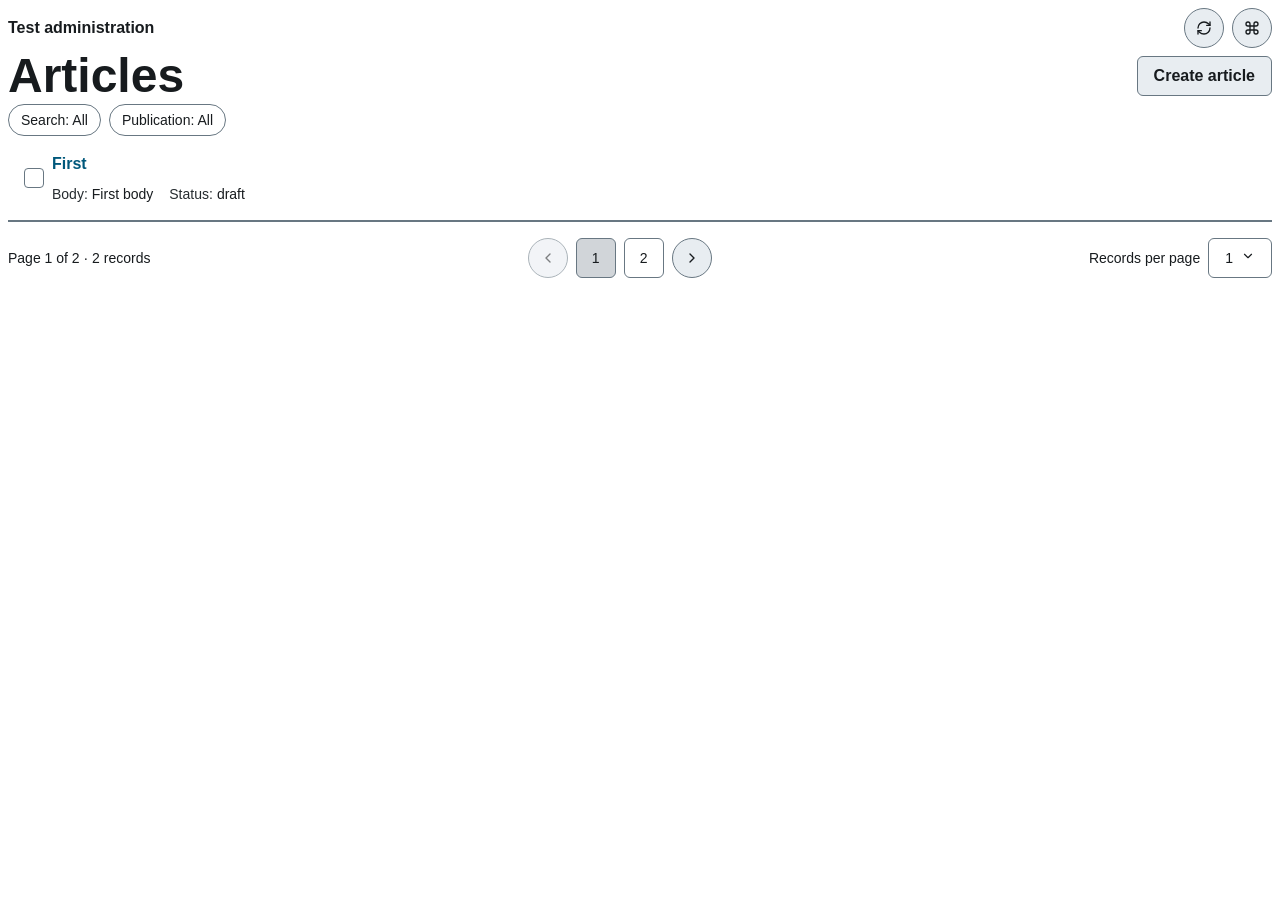
Test: registration-driven default pages › preserves selection and returns focus when deletion is cancelled
Click the checkbox named "Select First" at (34, 178), box [24,168,44,188]
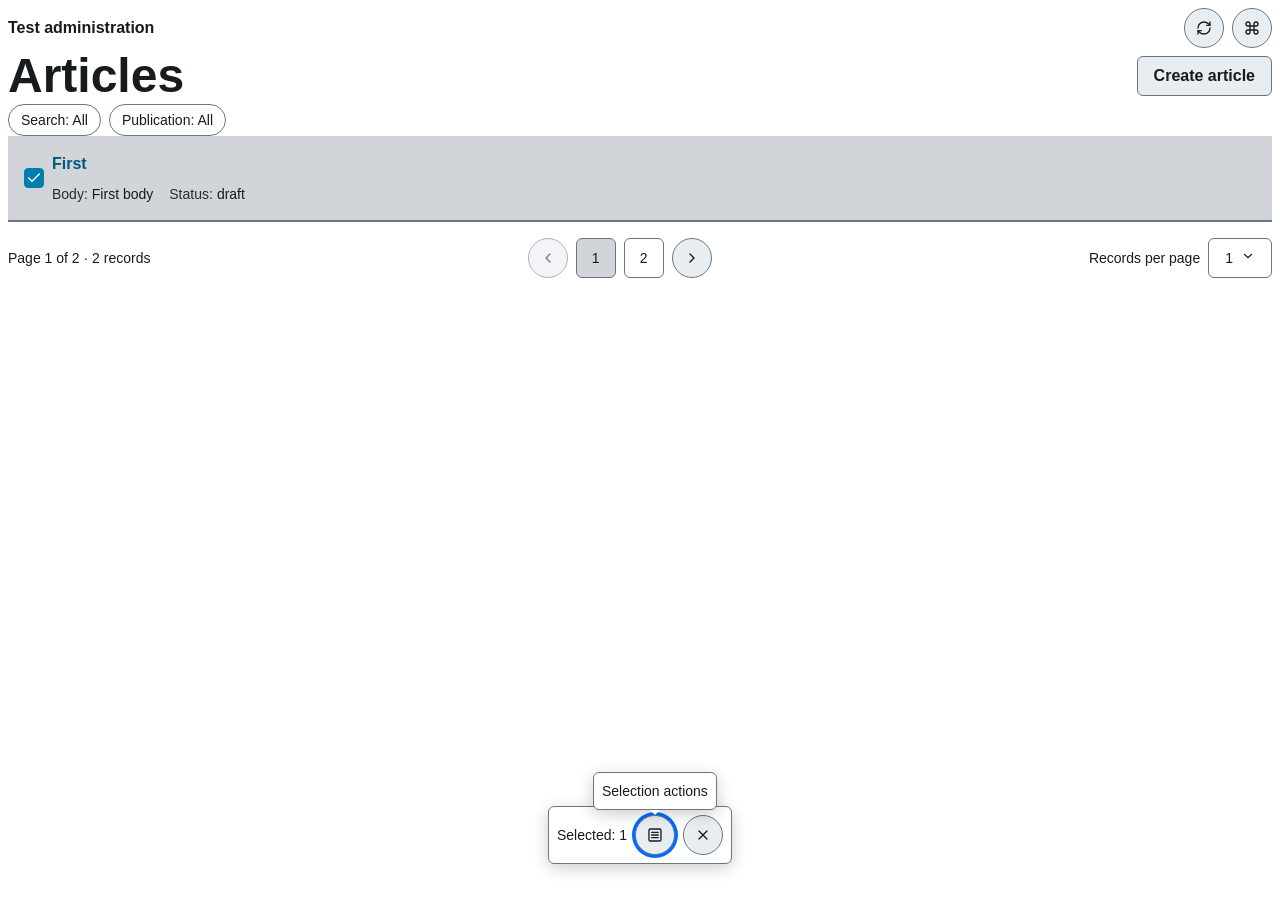
Press Enter
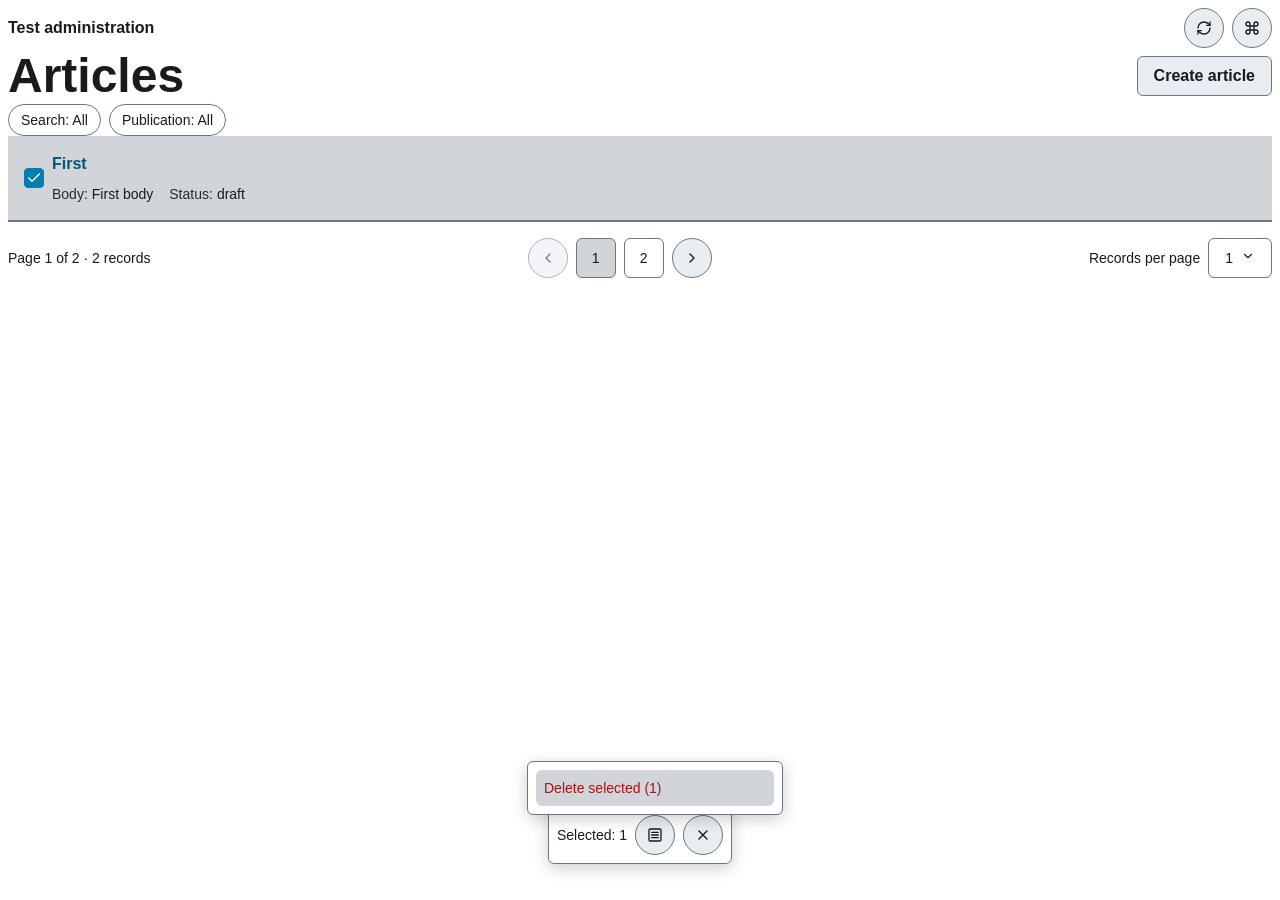
Click the menu item "Delete selected (1)" at (655, 788), box [536,770,774,806]
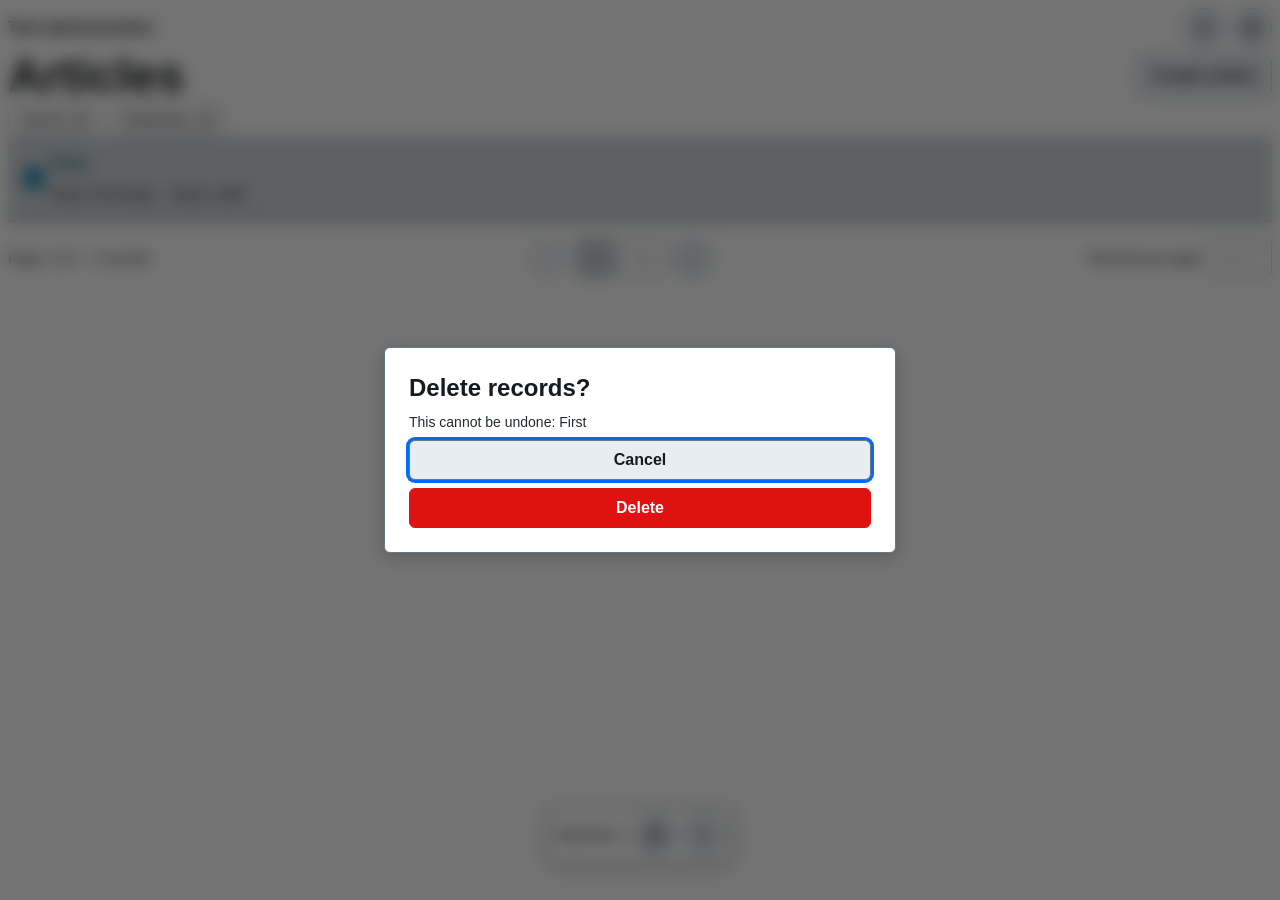
Press Escape
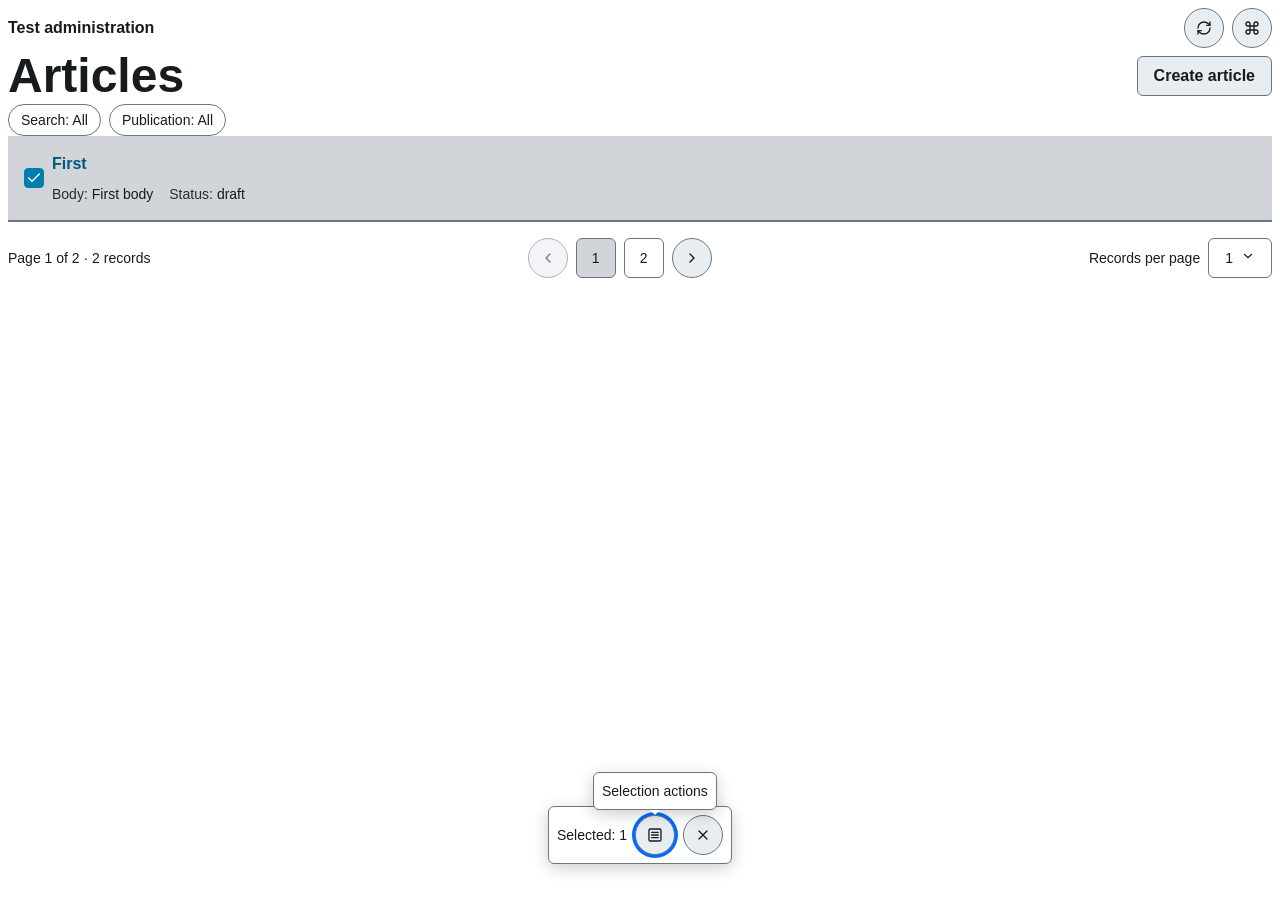
expect the dialog is gone: met
